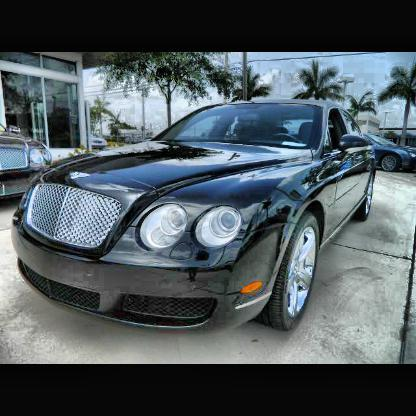Bentley Continental Flying Spur Sedan 2007: (12, 101, 377, 335)
